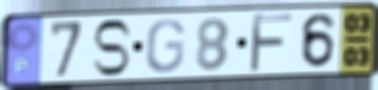6: (298, 12, 337, 70)
7: (48, 19, 85, 80)
8: (195, 16, 232, 73)
F: (247, 12, 296, 75)
G: (144, 17, 187, 75)
S: (90, 18, 134, 79)
